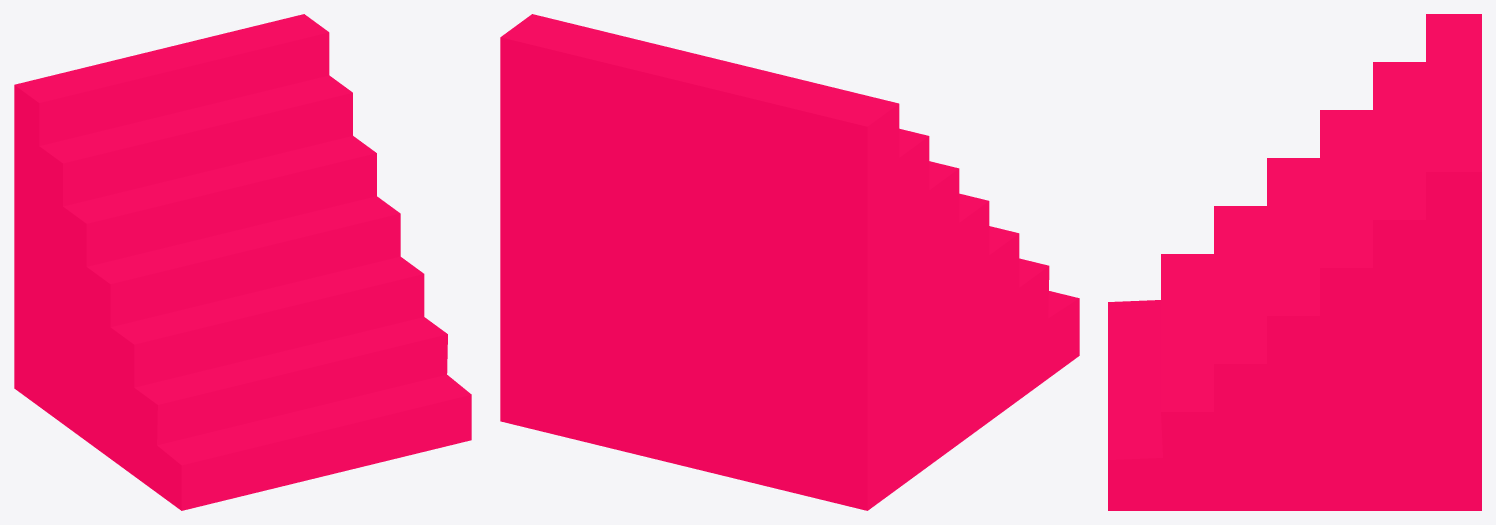
File: Stair.fbx
The picture shows the model from 3 angles, left to right: view 1: azimuth 30°, elevation 25°; view 2: azimuth 150°, elevation 25°; view 3: azimuth 270°, elevation 25°; orthographic projection. The views are drawn at different scales.
Visible parts, largest first — view 1: Stair; view 2: Stair; view 3: Stair.
Part boxes in pixels (bbox=[...]): Stair: bbox=[14, 14, 471, 510]; Stair: bbox=[500, 14, 1079, 510]; Stair: bbox=[1108, 14, 1481, 510].
Size of the model in its own units: 2 by 2 by 2.
